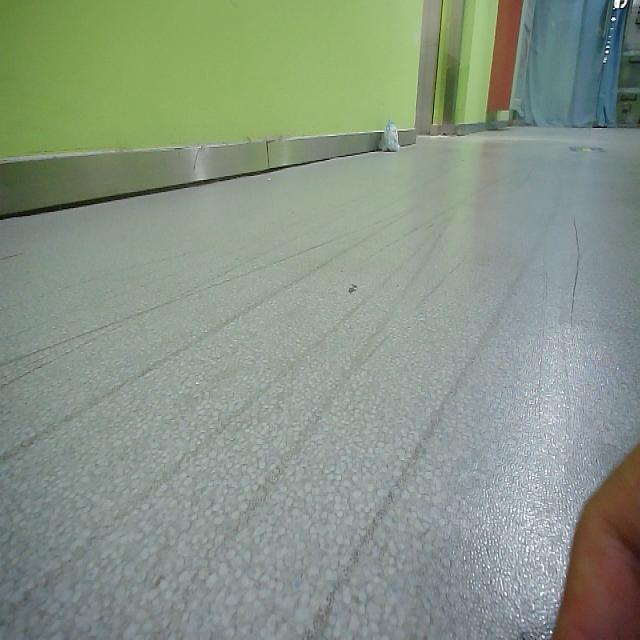xiaoba: (379, 116, 403, 156)
